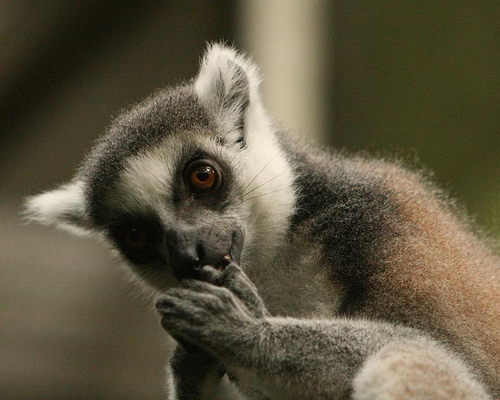cat: (17, 41, 499, 399)
